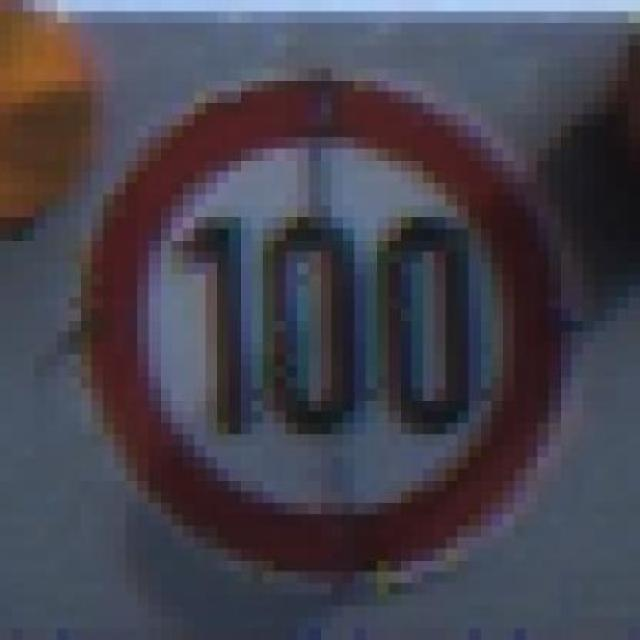forb_speed_over_100: (101, 83, 564, 575)
